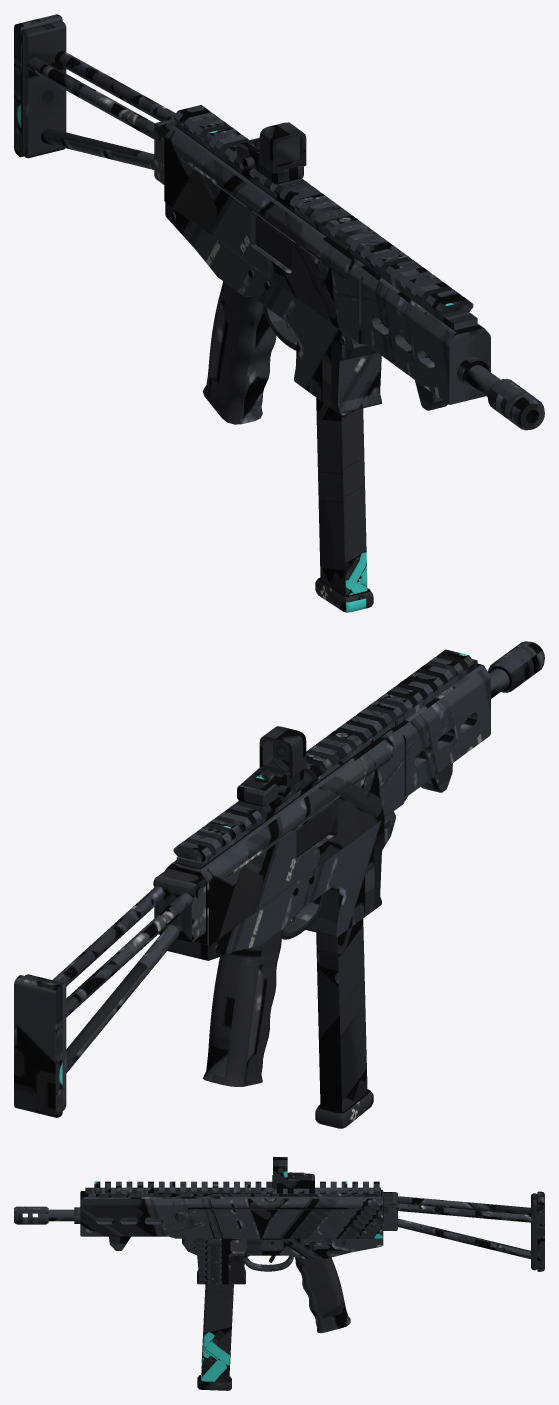
Rendered from smg.glb.
The picture shows the model from 3 angles, top to bottom: view 1: azimuth 30°, elevation 25°; view 2: azimuth 150°, elevation 25°; view 3: azimuth 270°, elevation 25°; orthographic projection. The views are drawn at different scales.
Parts seen in each view (by area): view 1: SMG_Body, SMG_Mag, SMG_Optic; view 2: SMG_Body, SMG_Mag, SMG_Optic; view 3: SMG_Body, SMG_Mag, SMG_Optic, SMG_Glow.
Part boxes in pixels (bbox=[...]): SMG_Body: bbox=[14, 14, 544, 430]; SMG_Mag: bbox=[315, 398, 373, 612]; SMG_Optic: bbox=[237, 122, 306, 184]; SMG_Body: bbox=[14, 641, 544, 1117]; SMG_Mag: bbox=[315, 918, 373, 1128]; SMG_Optic: bbox=[237, 726, 306, 806]; SMG_Body: bbox=[14, 1181, 544, 1333]; SMG_Mag: bbox=[197, 1284, 233, 1390]; SMG_Optic: bbox=[272, 1157, 314, 1188]; SMG_Glow: bbox=[189, 1207, 362, 1209].
Size of the model in its own units: 0.158 by 1.03 by 2.17.
2 materials, 2 textured.
